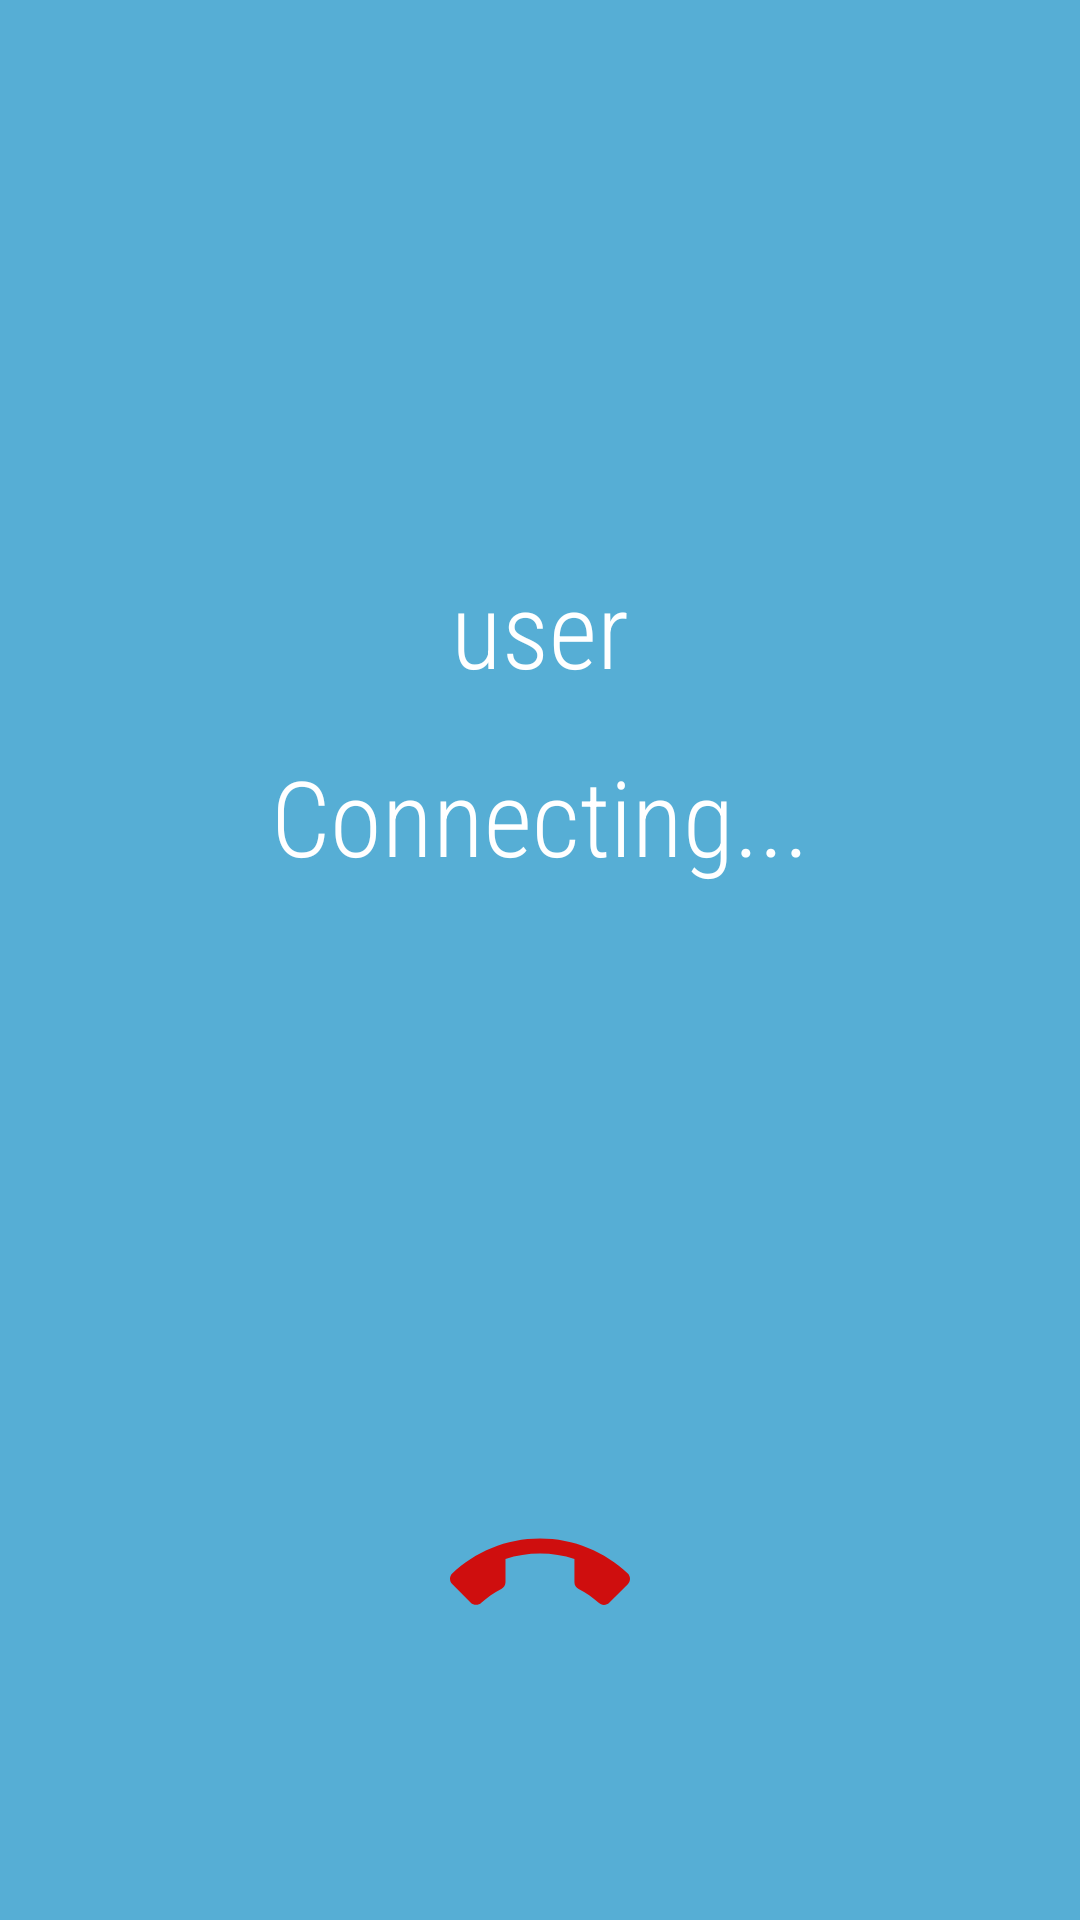

Named icons in this screenshot (1080px×1920px) and their bounding boxes, (x1, y1, x2, y2):
endcallimg: (450, 1538, 630, 1605)
